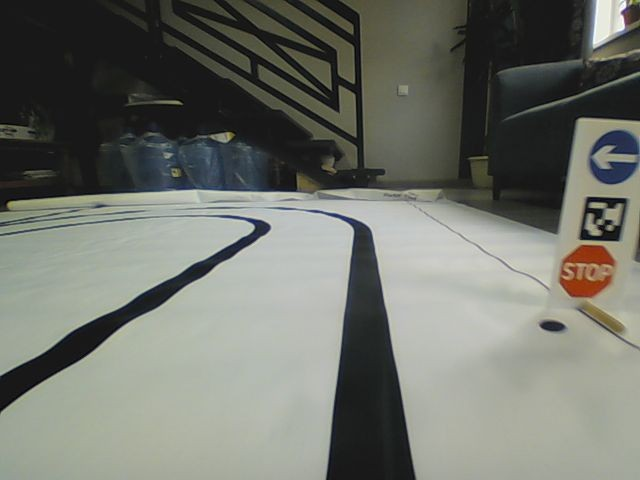Stop: (558, 245, 615, 298)
